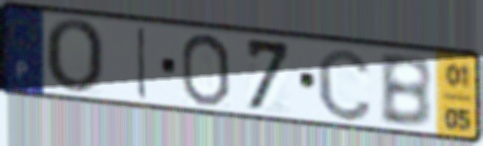7: (244, 36, 293, 113)
B: (376, 53, 435, 131)
C: (314, 45, 375, 124)
I: (135, 24, 149, 102)
O: (42, 16, 108, 98), (179, 31, 233, 108)
